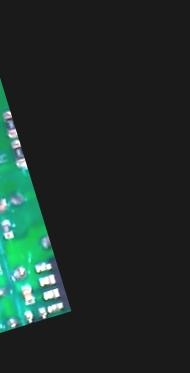chip-capacitor: (19, 281, 37, 306)
chip-resistor: (7, 136, 27, 168), (0, 107, 19, 138), (0, 216, 16, 240)
ic: (20, 301, 51, 325)
